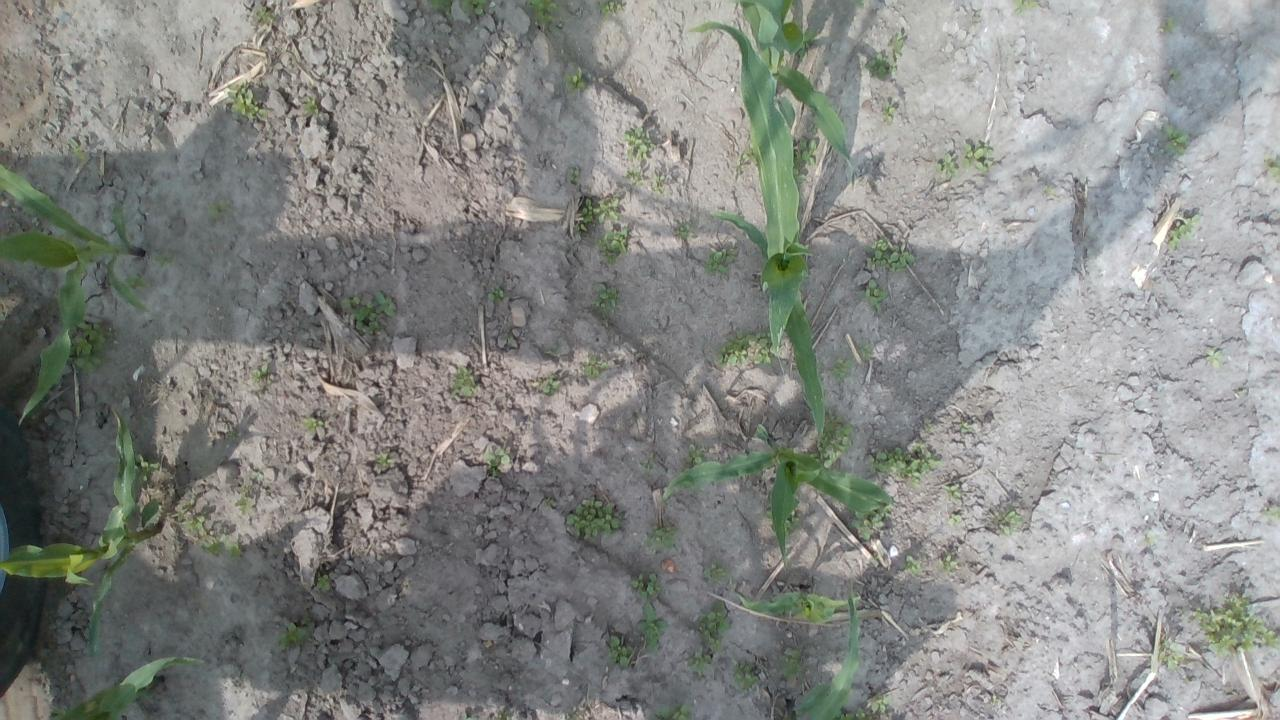Maize: (688, 19, 829, 458), (0, 402, 167, 662), (0, 165, 153, 428), (660, 424, 897, 570), (731, 0, 855, 180), (44, 652, 206, 720), (786, 587, 866, 719), (739, 586, 862, 622)
Weeds: (1178, 596, 1278, 660), (175, 498, 248, 558), (866, 442, 943, 490), (682, 600, 727, 669), (719, 328, 782, 369), (62, 314, 105, 374), (562, 498, 621, 541), (864, 24, 907, 82), (340, 290, 394, 336), (631, 596, 669, 655), (571, 192, 621, 232), (596, 226, 634, 264), (699, 243, 737, 280), (225, 82, 262, 120), (278, 620, 318, 655), (873, 239, 915, 271), (606, 626, 638, 668), (476, 445, 521, 473), (625, 165, 668, 194), (822, 424, 854, 462), (236, 470, 263, 514), (792, 132, 819, 175), (621, 126, 653, 162), (732, 144, 762, 182), (940, 483, 964, 528), (447, 363, 476, 399), (648, 527, 681, 558), (988, 509, 1024, 537), (1170, 214, 1202, 245), (965, 140, 998, 170), (1162, 122, 1191, 156), (627, 570, 664, 594), (524, 0, 562, 23), (202, 198, 234, 225), (848, 697, 892, 716), (734, 661, 760, 692), (776, 648, 800, 681), (862, 280, 886, 313), (580, 353, 608, 381), (936, 148, 962, 178), (591, 282, 617, 310), (1164, 642, 1186, 674), (564, 62, 586, 94), (248, 4, 276, 28), (832, 358, 859, 382), (1010, 0, 1042, 17), (940, 554, 964, 576), (1262, 151, 1280, 179), (251, 360, 269, 387), (1202, 344, 1224, 366), (66, 140, 88, 162), (305, 413, 329, 432), (856, 336, 875, 360), (704, 562, 730, 579), (538, 377, 564, 394), (902, 556, 922, 578), (300, 96, 319, 118), (468, 0, 492, 17), (595, 0, 622, 15), (314, 573, 332, 595), (1262, 501, 1280, 523), (684, 444, 702, 465), (562, 164, 581, 183), (1168, 69, 1186, 88), (878, 105, 897, 123), (918, 421, 936, 440), (376, 453, 396, 470), (1163, 17, 1180, 36), (1142, 523, 1156, 545), (953, 422, 975, 436), (638, 459, 658, 473), (434, 1, 454, 14), (486, 284, 500, 299)
